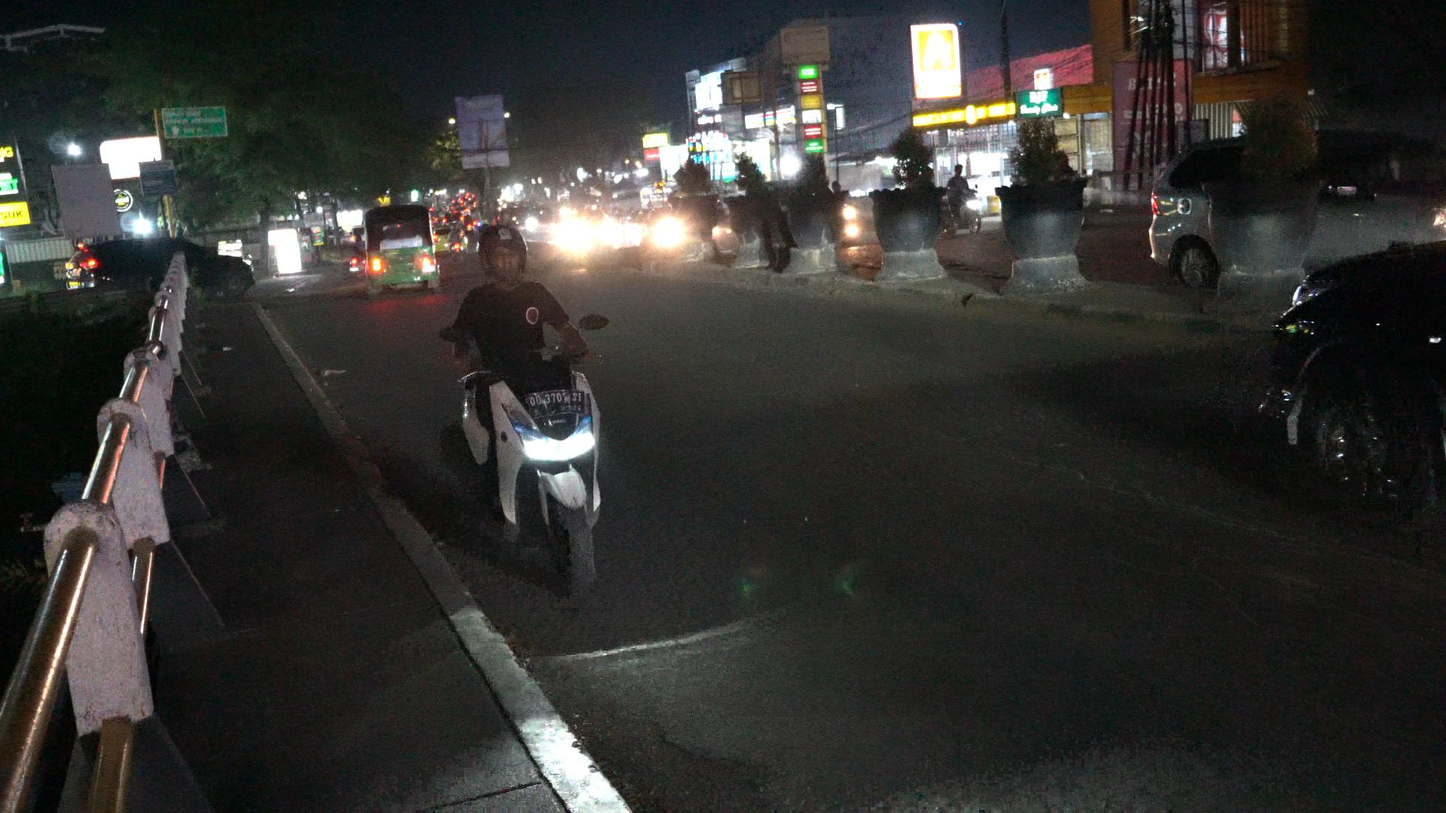number-plate: (523, 386, 593, 422)
